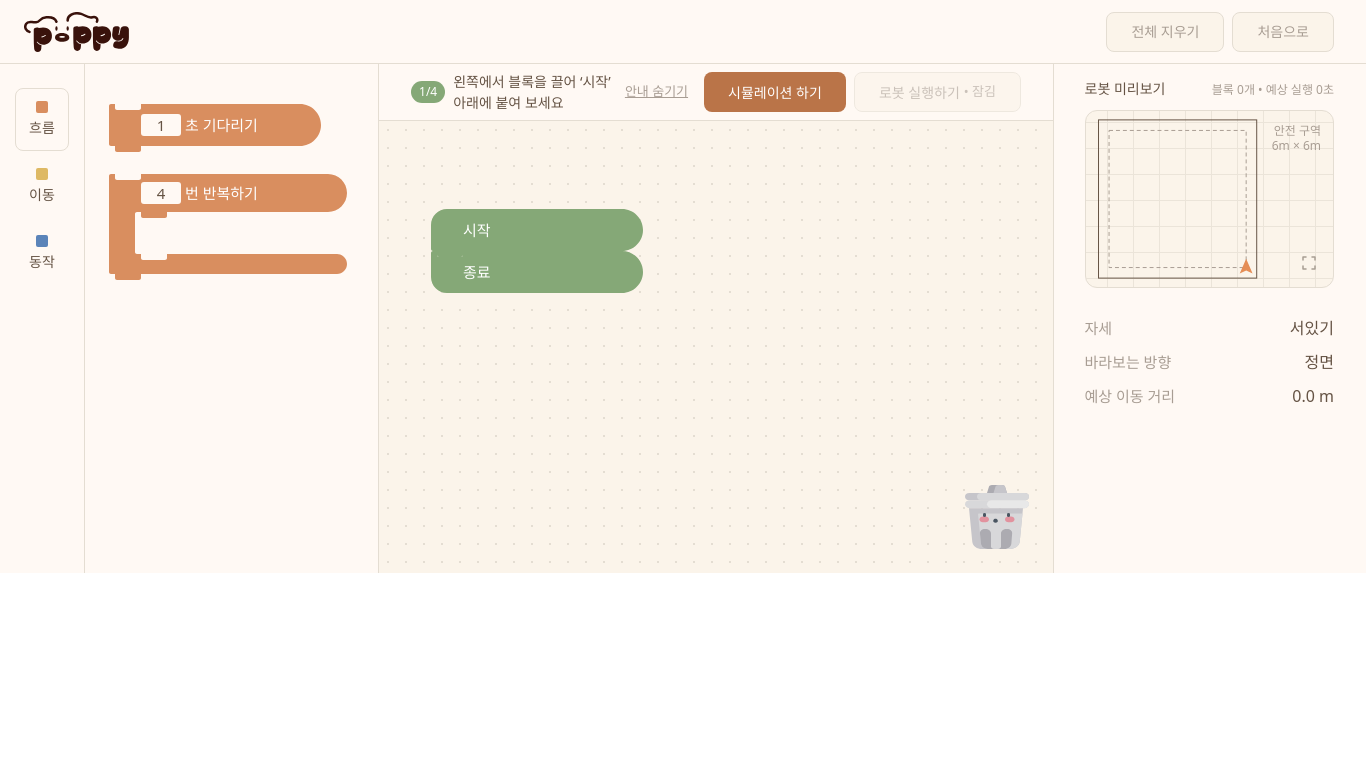
it: 반복 블록 입 — 넣기·빼기 (Notion 블록 편집기 명세) › 빈 반복은 입에 오류 안내가 보이고 시뮬레이션이 막힌다
Press the mouse on the button named "번 반복하기 블록 꺼내기" at (228,227), box [109,174,347,280]
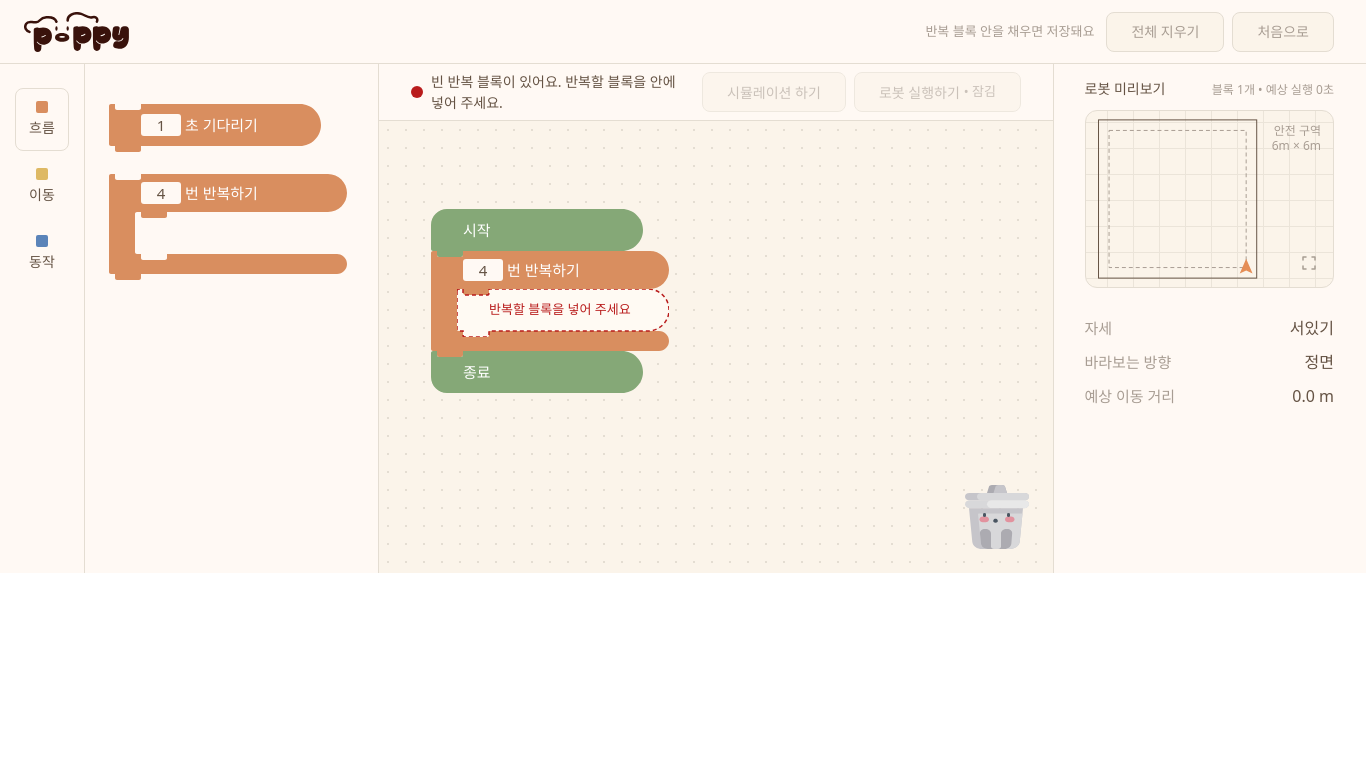
Result: the text "반복할 블록을 넣어 주세요" is shown at [489,300,631,318]
Result: the text "빈 반복 블록이 있어요. 반복할 블록을 안에 넣어 주세요." is shown at [431,71,686,113]
